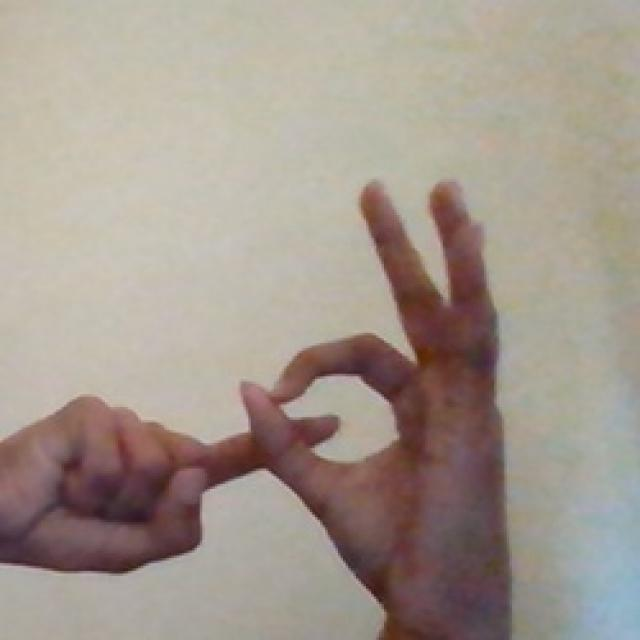Alphabet-Q: (0, 159, 540, 640)
